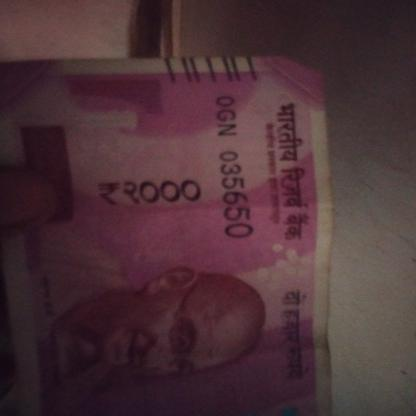New200Front: (0, 62, 322, 415)
